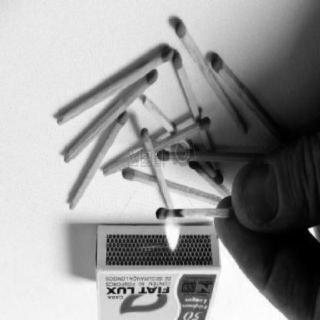Fire: (156, 207, 183, 255)
